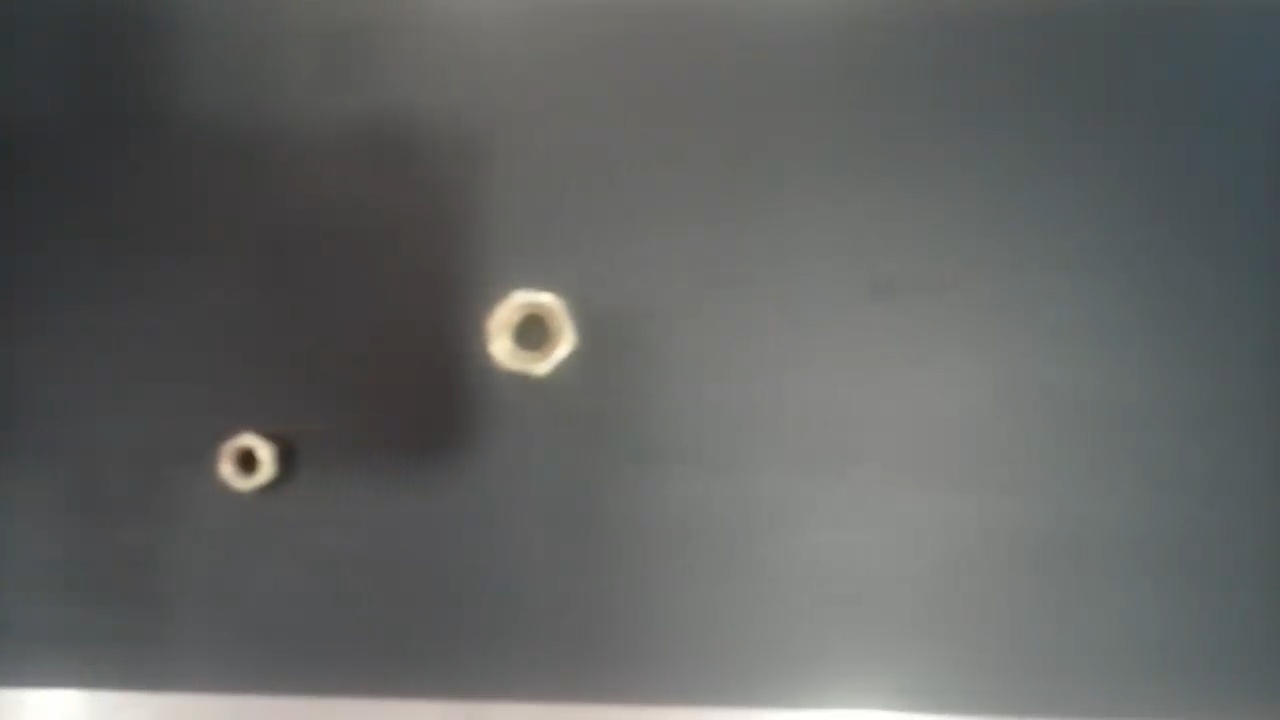Bolt: (481, 286, 580, 381), (212, 427, 288, 498)
